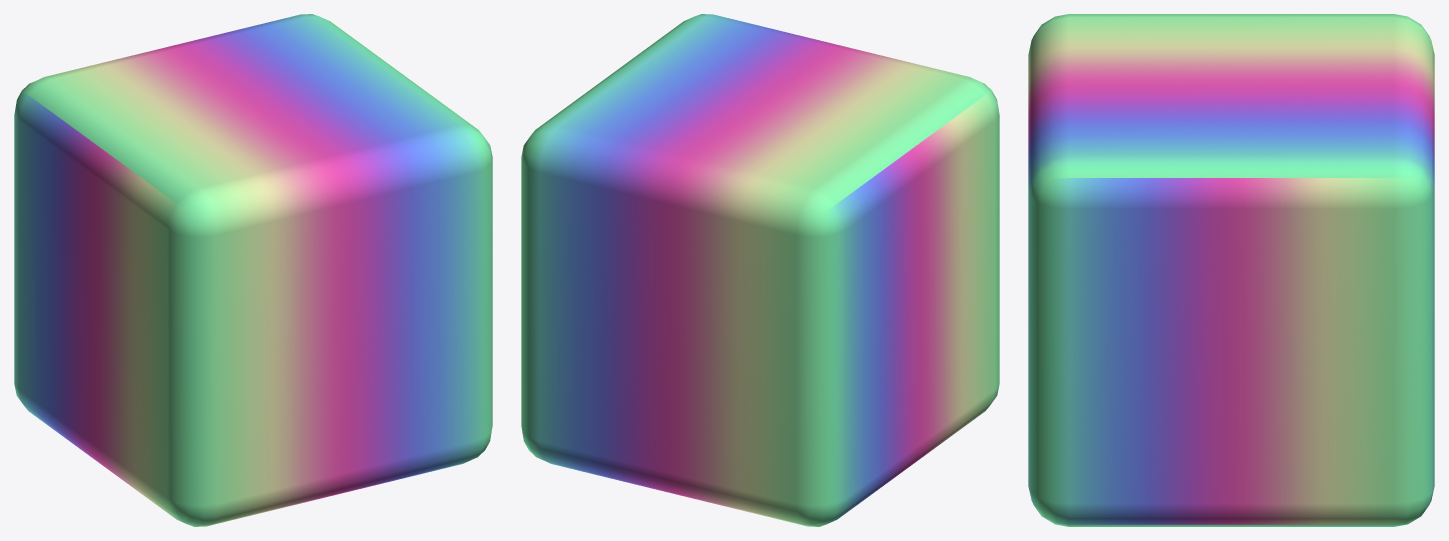
Rendered from ItemBox_mesh.fbx.
The picture shows the model from 3 angles, left to right: view 1: azimuth 30°, elevation 25°; view 2: azimuth 150°, elevation 25°; view 3: azimuth 270°, elevation 25°; orthographic projection. The views are drawn at different scales.
Visible parts, largest first — view 1: ItemBox; view 2: ItemBox; view 3: ItemBox.
Part boxes in pixels (x1,y1,x2,y2): ItemBox: (14,14,492,526); ItemBox: (521,14,999,526); ItemBox: (1028,14,1434,526).
Size of the model in its own units: 100 by 100 by 100.
